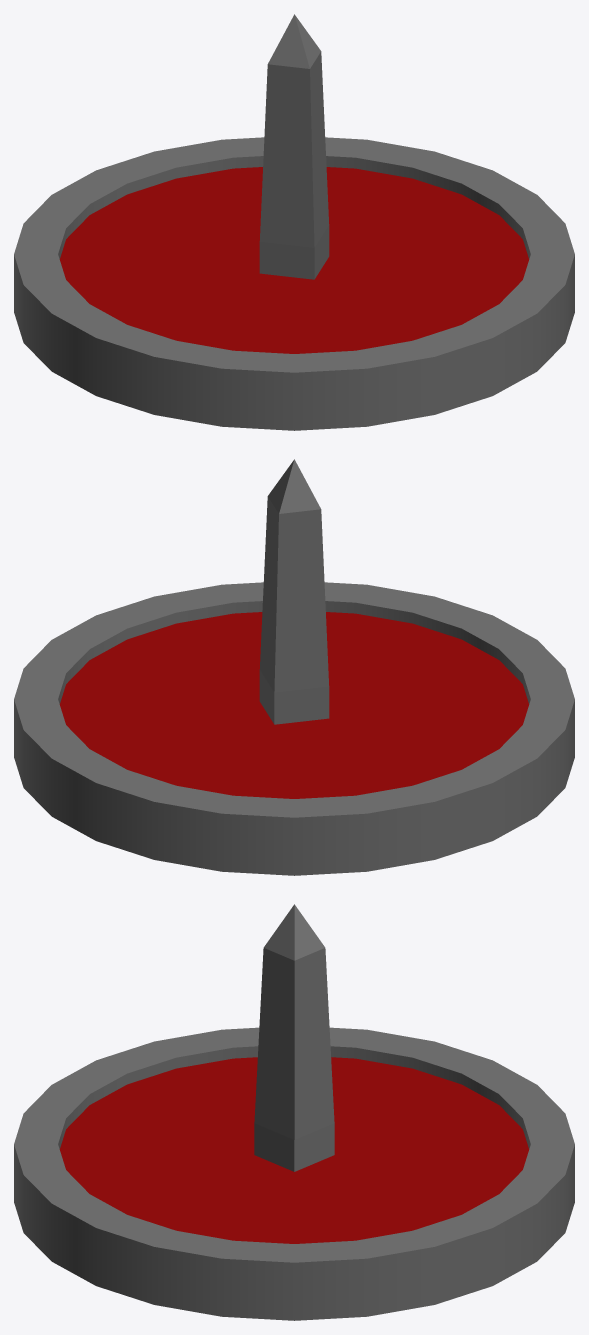
File: fountain.fbx
3 views of the same model, one above another, from view 1: azimuth 30°, elevation 25°; view 2: azimuth 150°, elevation 25°; view 3: azimuth 270°, elevation 25° (orthographic).
Visible parts, largest first — view 1: Model; view 2: Model; view 3: Model.
Boxes of the visible parts, x1=… form: Model: x1=14, y1=14, x2=574, y2=430; Model: x1=14, y1=459, x2=574, y2=875; Model: x1=14, y1=904, x2=574, y2=1320.
Bounding box in the file's own units: 1400 × 821 × 1400.
